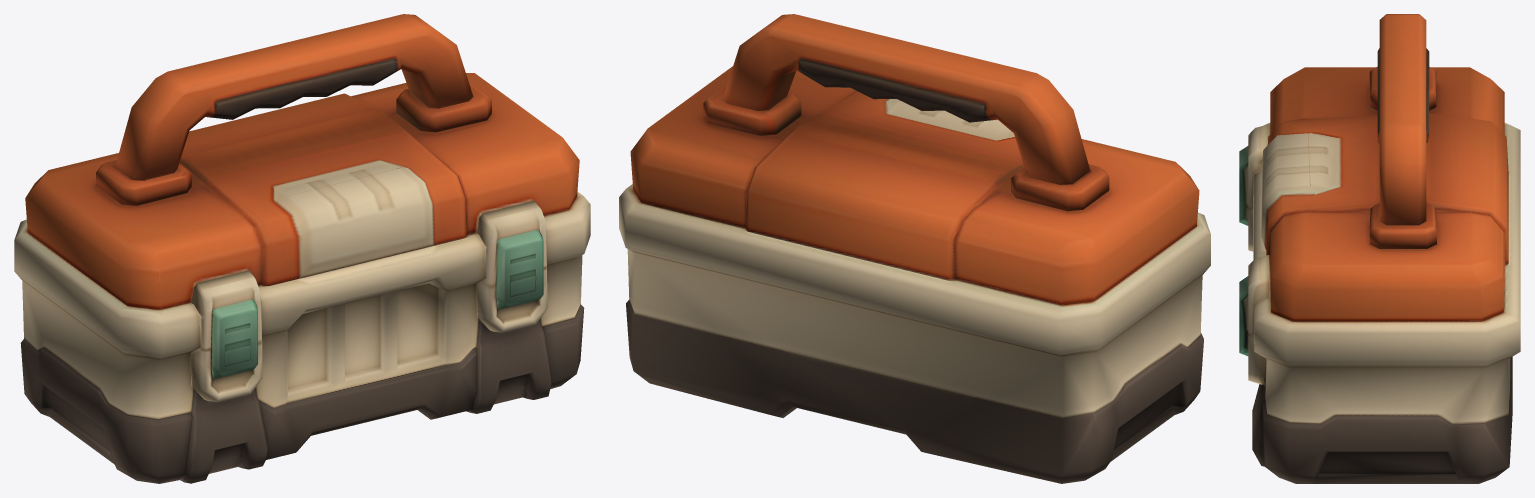
The model's file is LSReal_Toolbox.fbx.
3 views of the same model, side by side, from view 1: azimuth 30°, elevation 25°; view 2: azimuth 150°, elevation 25°; view 3: azimuth 270°, elevation 25° (orthographic). The views are drawn at different scales.
Visible parts, largest first — view 1: tripo_node_2a6bfebf-2949-4518-9f7c-7e08af4149f6; view 2: tripo_node_2a6bfebf-2949-4518-9f7c-7e08af4149f6; view 3: tripo_node_2a6bfebf-2949-4518-9f7c-7e08af4149f6.
Boxes of the visible parts, x1,y1,x2,y2 form: tripo_node_2a6bfebf-2949-4518-9f7c-7e08af4149f6: [14, 14, 590, 483]; tripo_node_2a6bfebf-2949-4518-9f7c-7e08af4149f6: [619, 14, 1210, 483]; tripo_node_2a6bfebf-2949-4518-9f7c-7e08af4149f6: [1239, 14, 1520, 483].
Size of the model in its own units: 60.8 by 42 by 33.67.
Materials: 1 (1 with a texture image).
